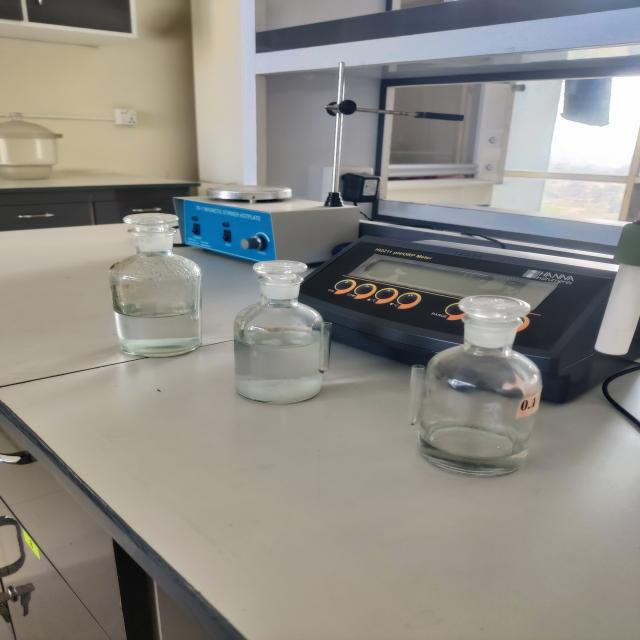Reagent_Bottle: (393, 267, 600, 498), (214, 242, 365, 419), (94, 178, 217, 385)
